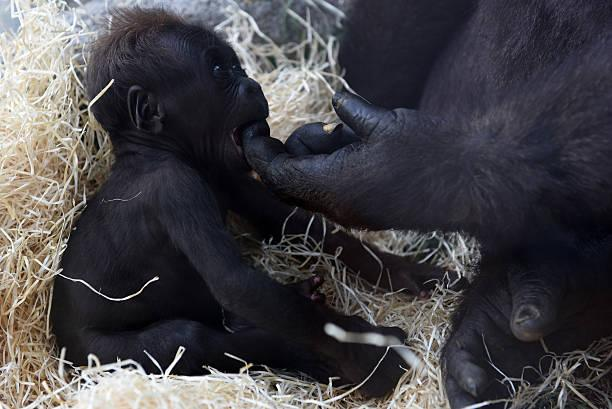gorille_Autres: (62, 0, 311, 348)
